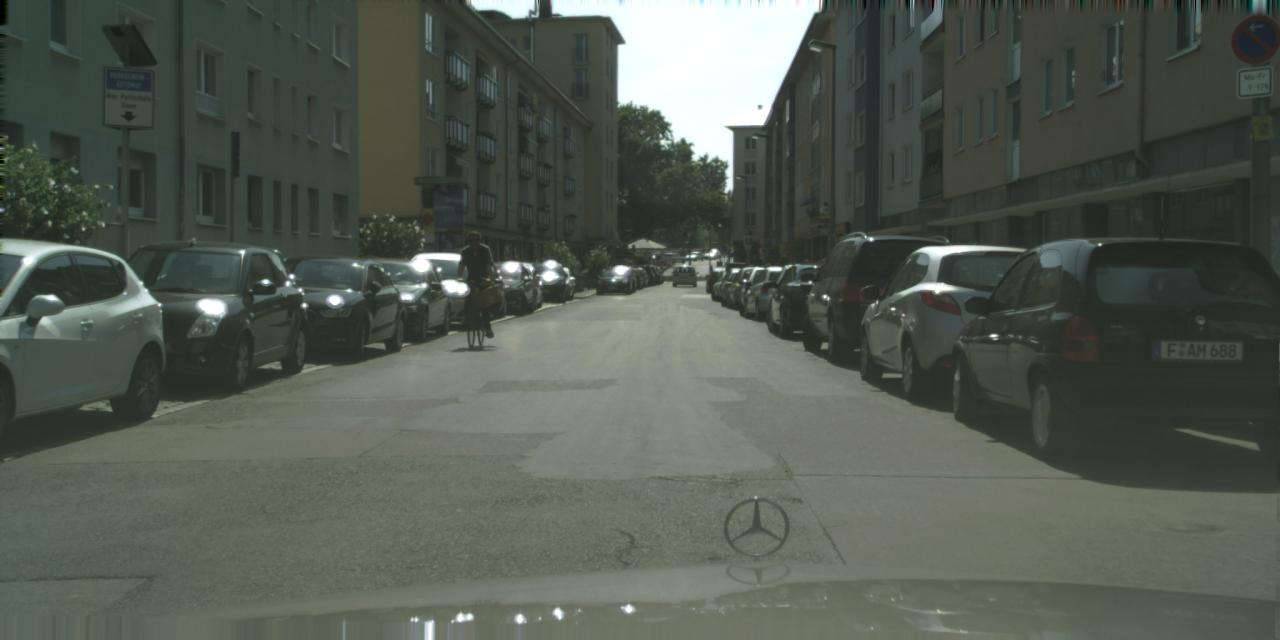ped: (454, 230, 494, 328), (797, 259, 812, 295), (762, 263, 772, 289), (725, 258, 731, 274)
